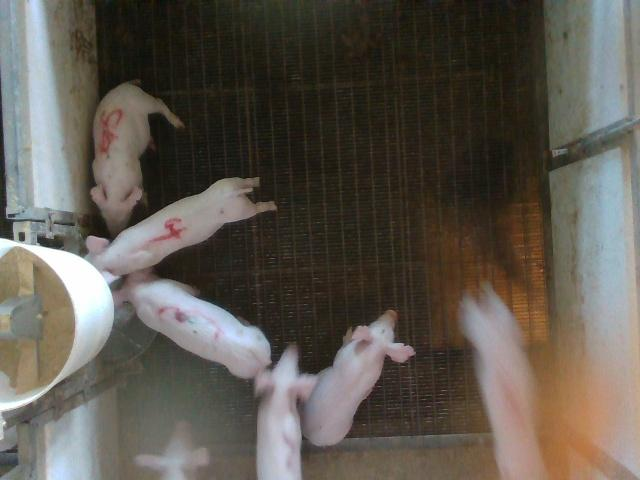pig-1: (460, 284, 548, 479)
pig-2: (255, 344, 316, 479)
pig-3: (112, 269, 270, 379)
pig-4: (86, 179, 275, 282)
pig-5: (91, 82, 184, 237)
